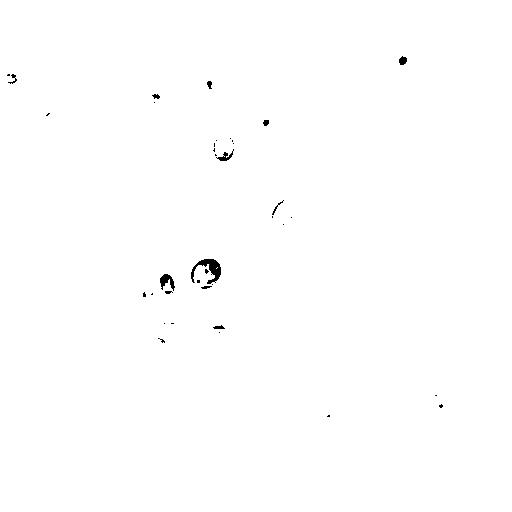micro-algae: (385, 40, 419, 81), (189, 255, 224, 292), (26, 95, 59, 127), (193, 329, 226, 361), (250, 103, 281, 137), (152, 319, 186, 349), (270, 196, 299, 231), (131, 276, 165, 305), (211, 130, 237, 165), (424, 392, 453, 415), (159, 273, 177, 296), (202, 76, 217, 93), (3, 70, 18, 85)
